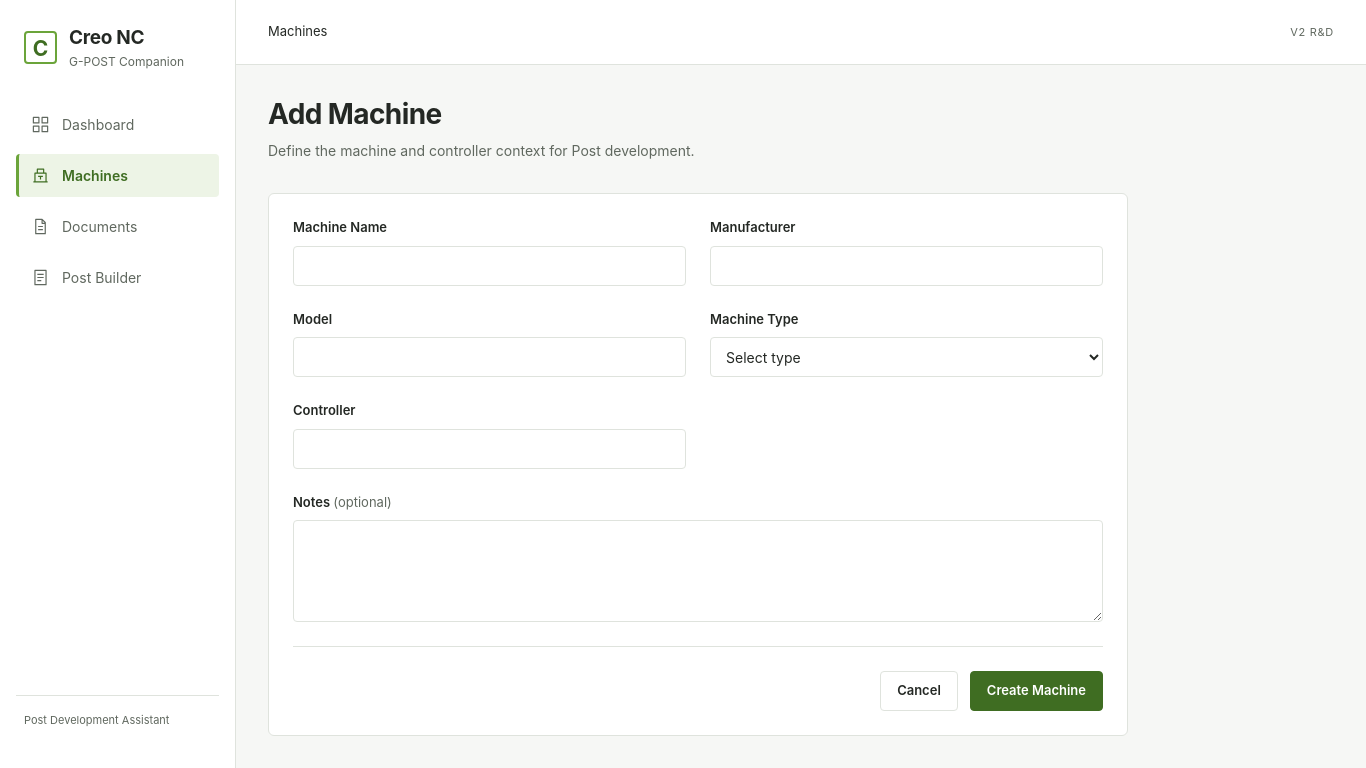
Test: Machine management › prevents duplicate creation while saving
Type " KLS-1840N Demo " into the field labelled "Machine Name" at (490, 266), box [293, 246, 686, 286]
Type " KENT " into the field labelled "Manufacturer" at (906, 266), box [710, 246, 1103, 286]
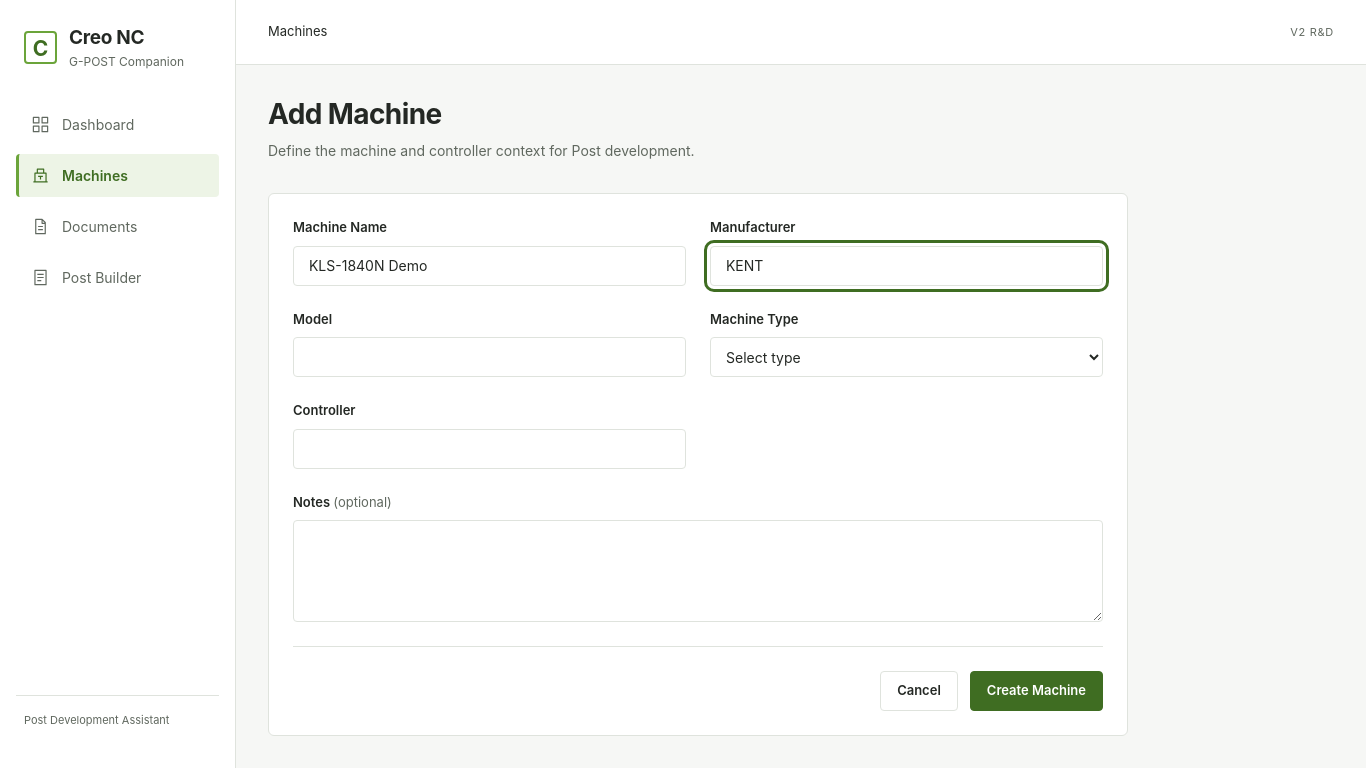
Type " KLS-1840N " into the field labelled "Model" at (490, 357), box [293, 337, 686, 377]
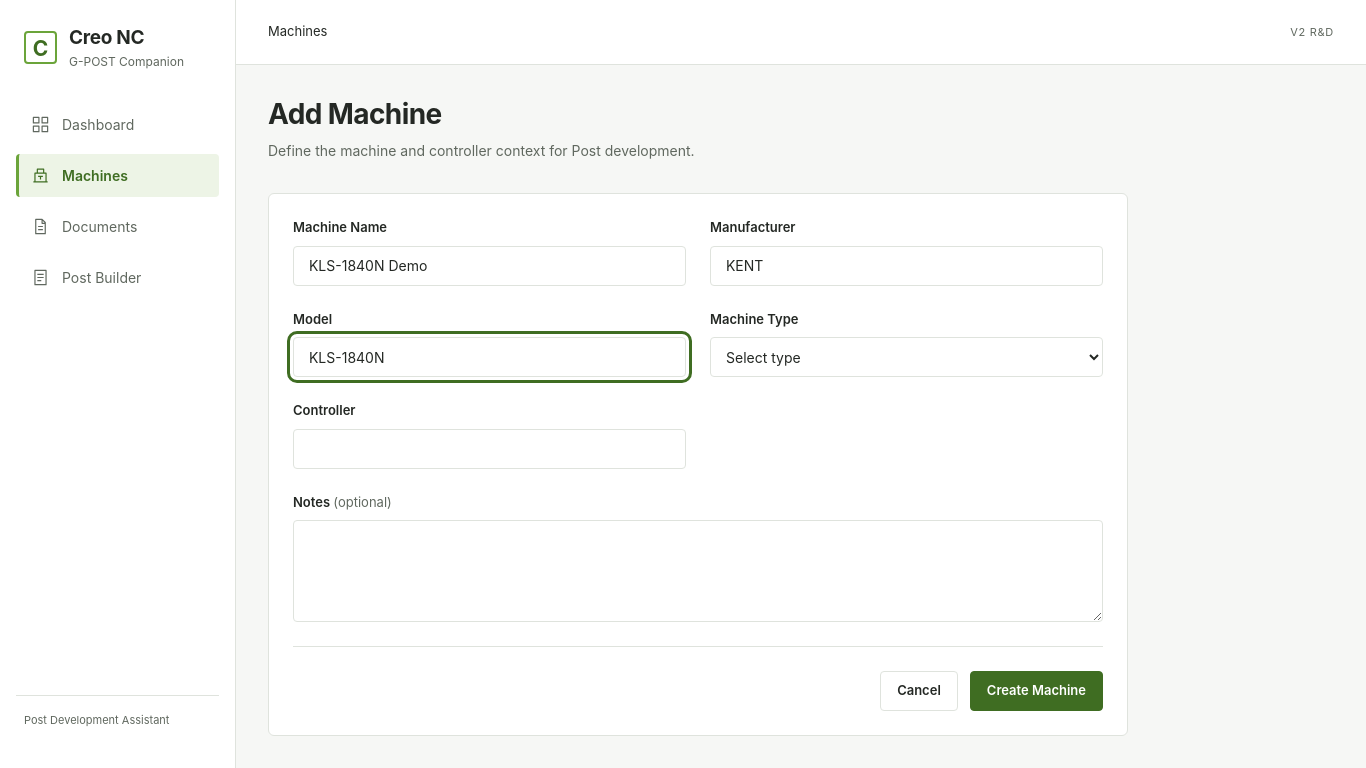
Type " FANUC 0i-TF " into the field labelled "Controller" at (490, 448), box [293, 428, 686, 468]
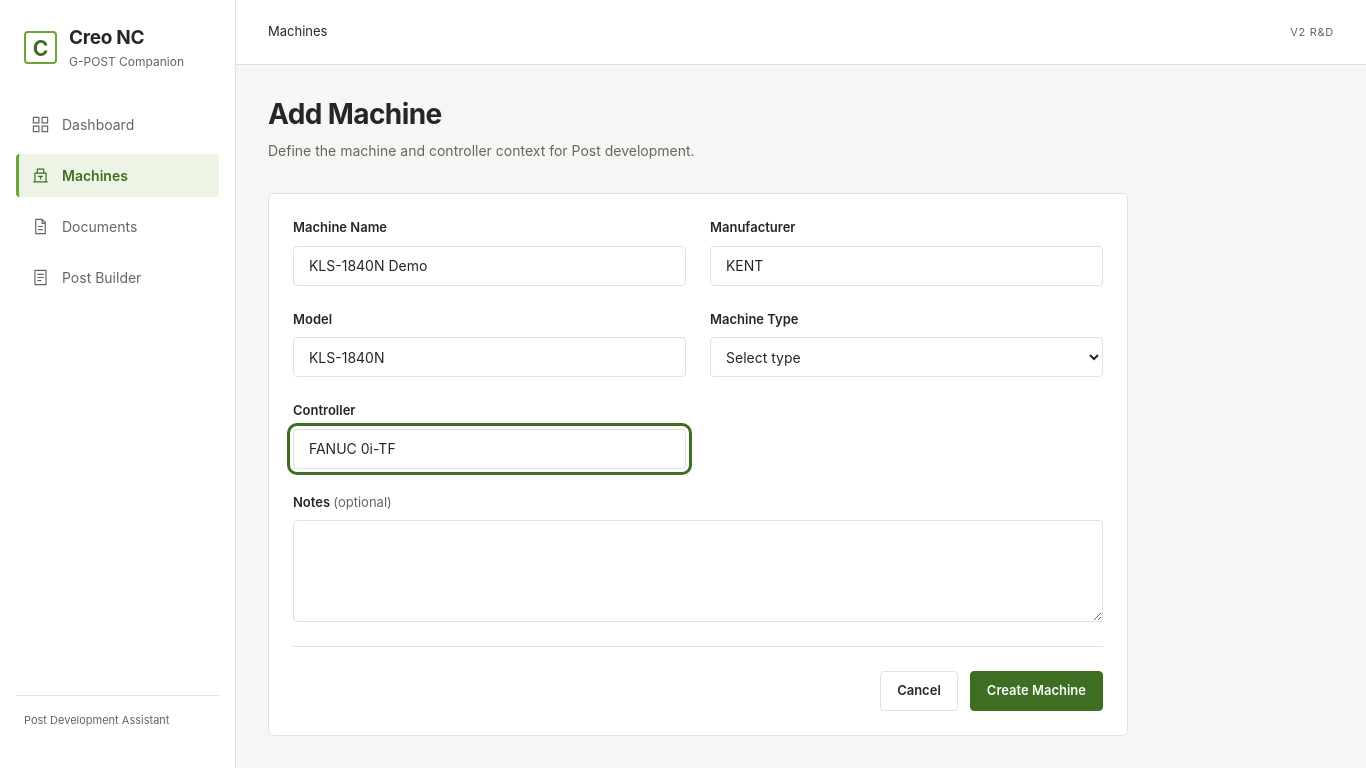
Select "Lathe" in the dropdown labelled "Machine Type" at (906, 357), box [710, 337, 1103, 377]
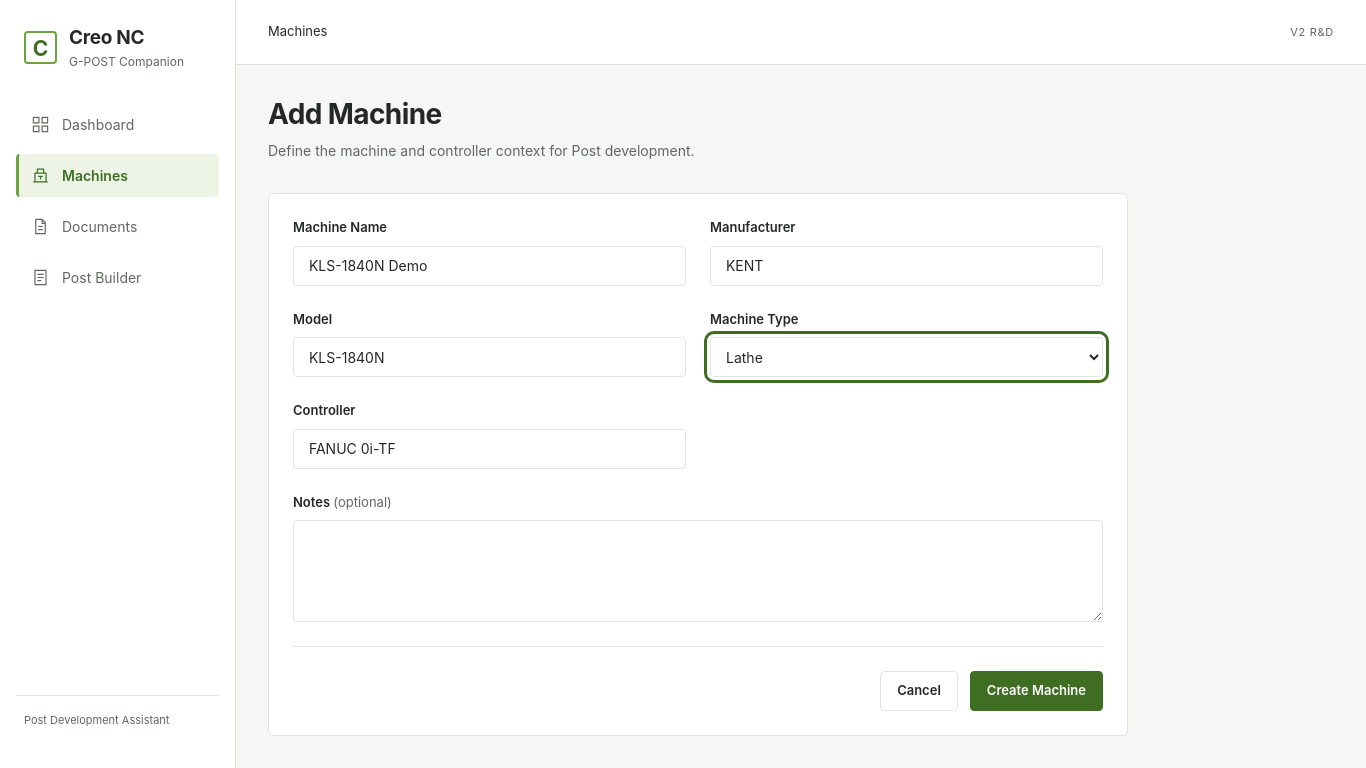
Type " V2 demo machine " into the text box labelled "Notes (optional)" at (698, 571), box [293, 520, 1103, 622]
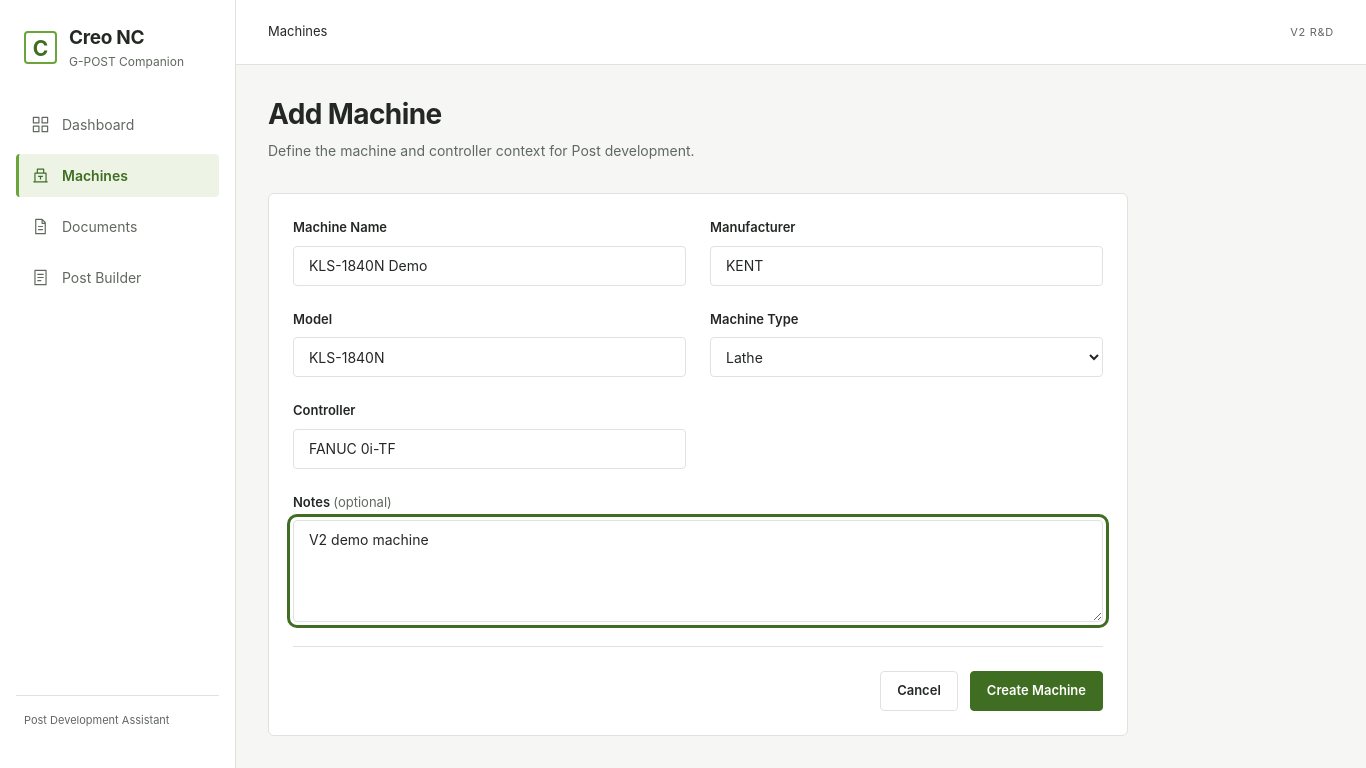
Click the button "Create Machine" at (1036, 691), box [970, 671, 1103, 711]
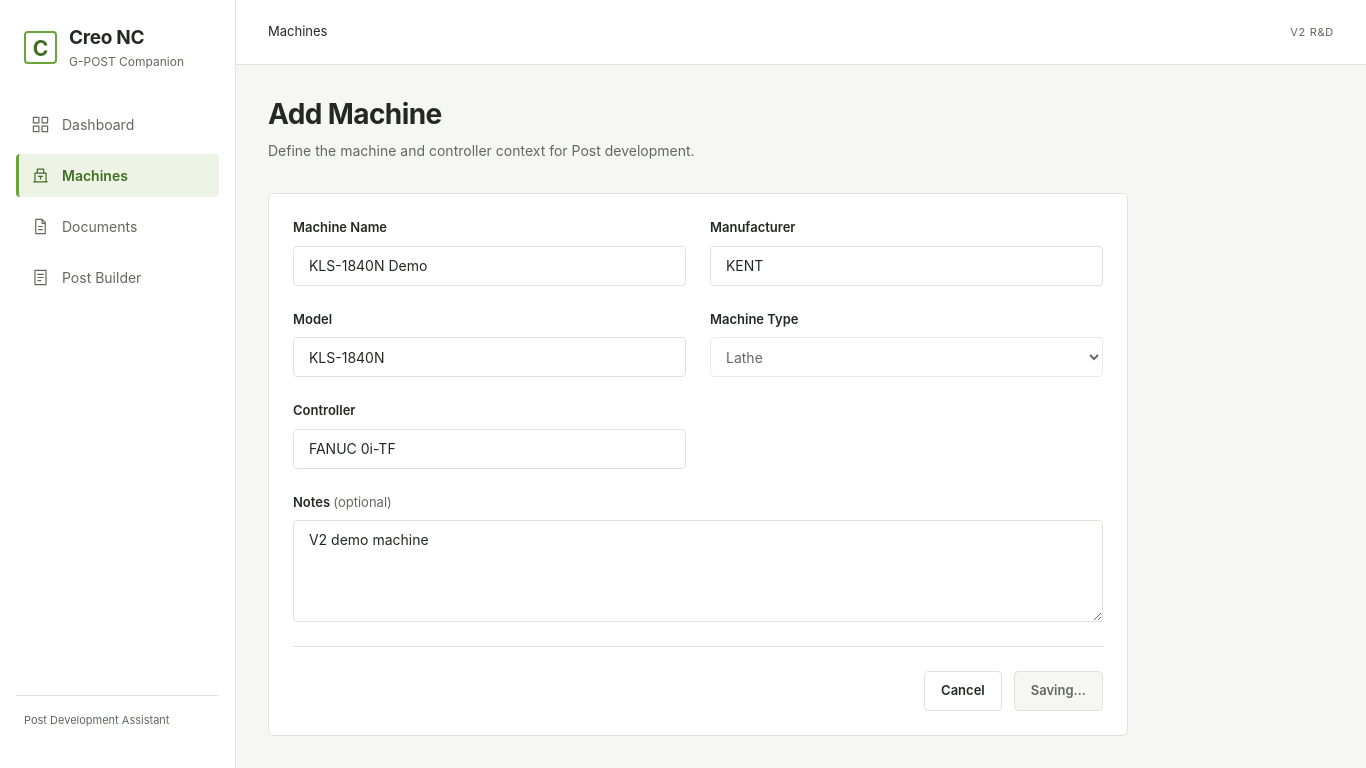
Expected: the field labelled "Machine Name" is disabled, [293, 246, 686, 286]
Result: the button "Saving…" is disabled at [1014, 671, 1103, 711]
